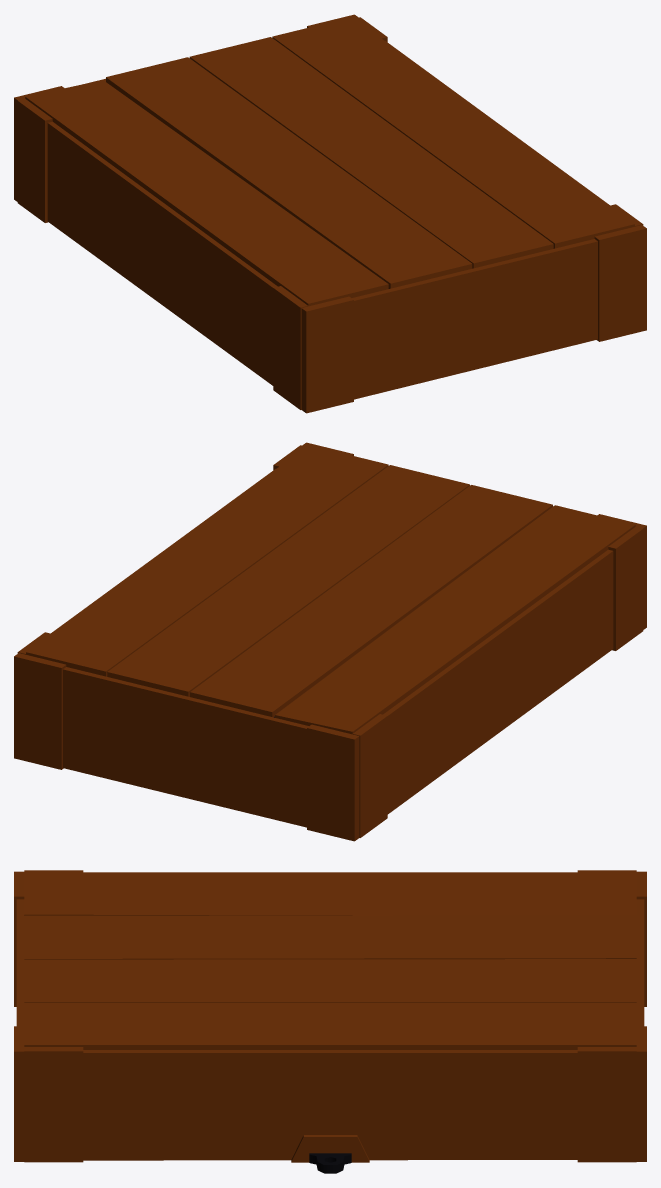
Rendered from WoodChest_Top4.fbx.
3 views of the same model, one above another, from view 1: azimuth 30°, elevation 25°; view 2: azimuth 150°, elevation 25°; view 3: azimuth 270°, elevation 25° (orthographic). The views are drawn at different scales.
Visible parts, largest first — view 1: SM_WoodChest_Top_LOD0; view 2: SM_WoodChest_Top_LOD0; view 3: SM_WoodChest_Top_LOD0.
Boxes of the visible parts, left/top/right/bottom form: SM_WoodChest_Top_LOD0: left=14, top=14, right=646, bottom=413; SM_WoodChest_Top_LOD0: left=14, top=442, right=646, bottom=841; SM_WoodChest_Top_LOD0: left=14, top=870, right=646, bottom=1173.
Size of the model in its own units: 17.67 by 4.85 by 24.43.
